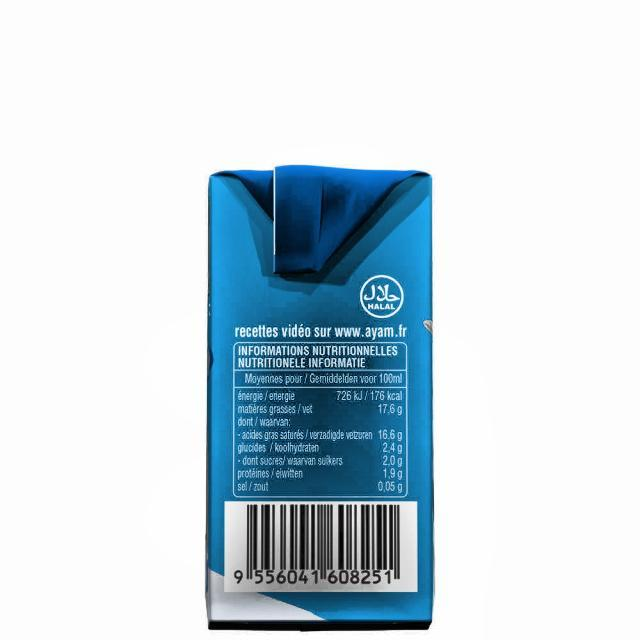cardboard: (205, 163, 434, 630)
